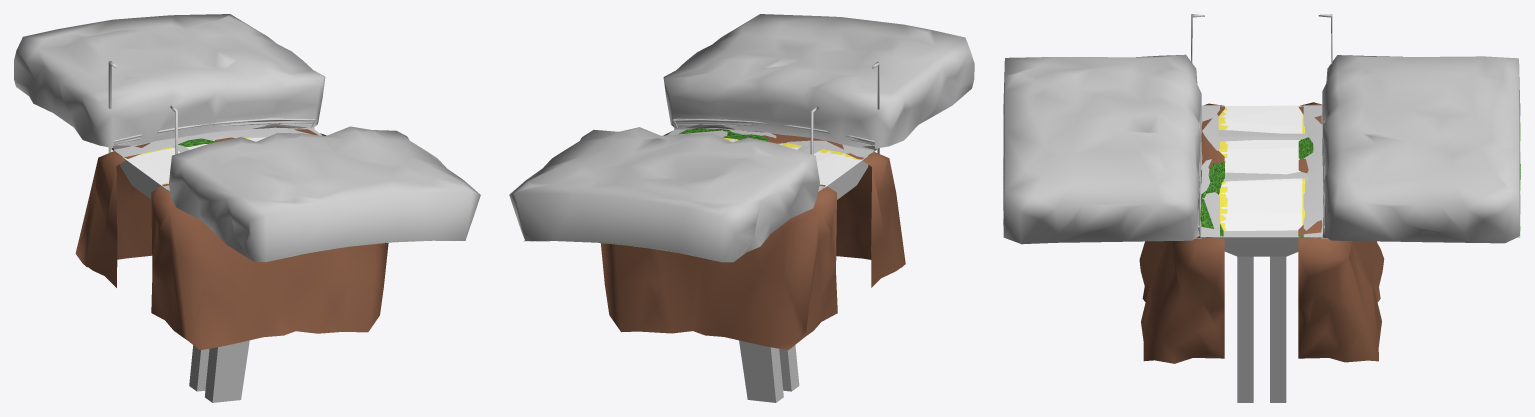
File: RoadStraightDown_LOD2.fbx
3 renders of one model, left to right at view 1: azimuth 30°, elevation 25°; view 2: azimuth 150°, elevation 25°; view 3: azimuth 270°, elevation 25°, orthographic. The views are drawn at different scales.
Visible parts, largest first — view 1: MountainRight, MountainLeft, CliffRight, CliffLeft, Road, PianoLeft, Road Mask, RailGuardLeft; view 2: MountainRight, MountainLeft, CliffLeft, CliffRight, Road, Road Mask, PianoRight, RailGuardRight, TerrainRight; view 3: MountainRight, MountainLeft, CliffRight, CliffLeft, Road Mask, Road, PianoLeft, PianoRight, TerrainRight.
Boxes of the visible parts, x1,y1,x2,y2 form: MountainRight: [169, 126, 480, 262]; MountainLeft: [14, 14, 325, 150]; CliffRight: [151, 184, 388, 350]; CliffLeft: [75, 129, 326, 287]; Road: [120, 136, 249, 402]; PianoLeft: [111, 128, 322, 157]; Road Mask: [123, 137, 266, 185]; RailGuardLeft: [113, 118, 316, 145]; MountainRight: [663, 14, 974, 152]; MountainLeft: [509, 127, 819, 262]; CliffLeft: [600, 184, 837, 350]; CliffRight: [663, 130, 905, 287]; Road: [738, 140, 868, 402]; Road Mask: [721, 137, 863, 187]; PianoRight: [667, 129, 877, 157]; RailGuardRight: [672, 119, 874, 145]; TerrainRight: [678, 128, 877, 155]; MountainRight: [1003, 54, 1202, 244]; MountainLeft: [1322, 55, 1520, 243]; CliffRight: [1139, 103, 1224, 363]; CliffLeft: [1298, 102, 1384, 362]; Road Mask: [1218, 105, 1304, 230]; Road: [1212, 106, 1310, 402]; PianoLeft: [1303, 105, 1520, 237]; PianoRight: [1003, 105, 1219, 236]; TerrainRight: [1003, 157, 1224, 237].
Size of what is drawn, in the model's own units: 592 by 772 by 1051.
